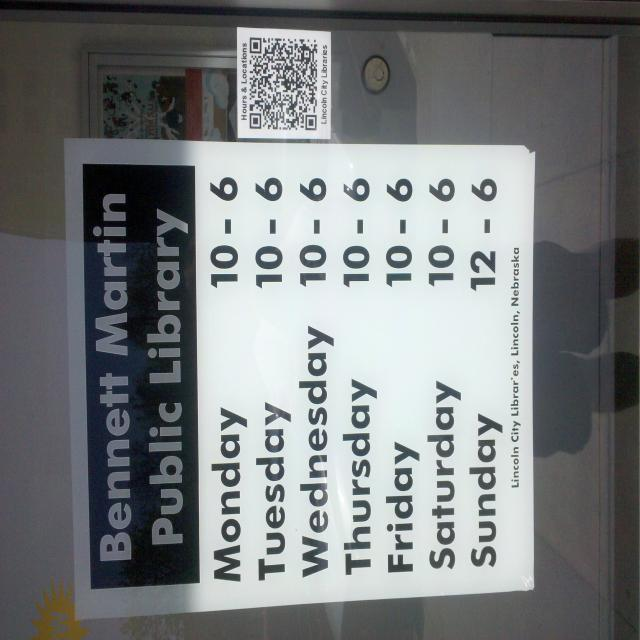qrcode: (251, 38, 318, 131)
